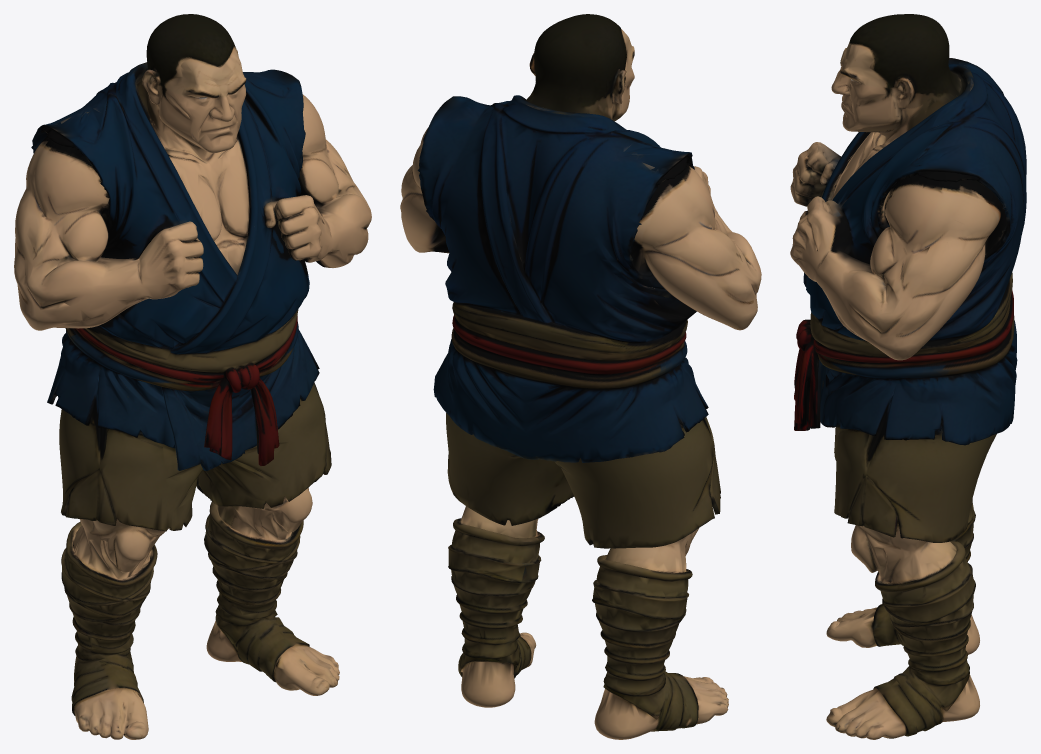
File: jiao_ting_ai.glb
3 renders of one model, left to right at view 1: azimuth 30°, elevation 25°; view 2: azimuth 150°, elevation 25°; view 3: azimuth 270°, elevation 25°, orthographic.
Visible parts, largest first — view 1: node_0; view 2: node_0; view 3: node_0.
Part boxes in pixels (x1,y1,x2,y2): node_0: [14, 14, 371, 739]; node_0: [400, 14, 761, 739]; node_0: [790, 14, 1026, 739].
Size of the model in its own units: 0.5993 by 1.13 by 0.3627.
Materials: 1 (1 with a texture image).
